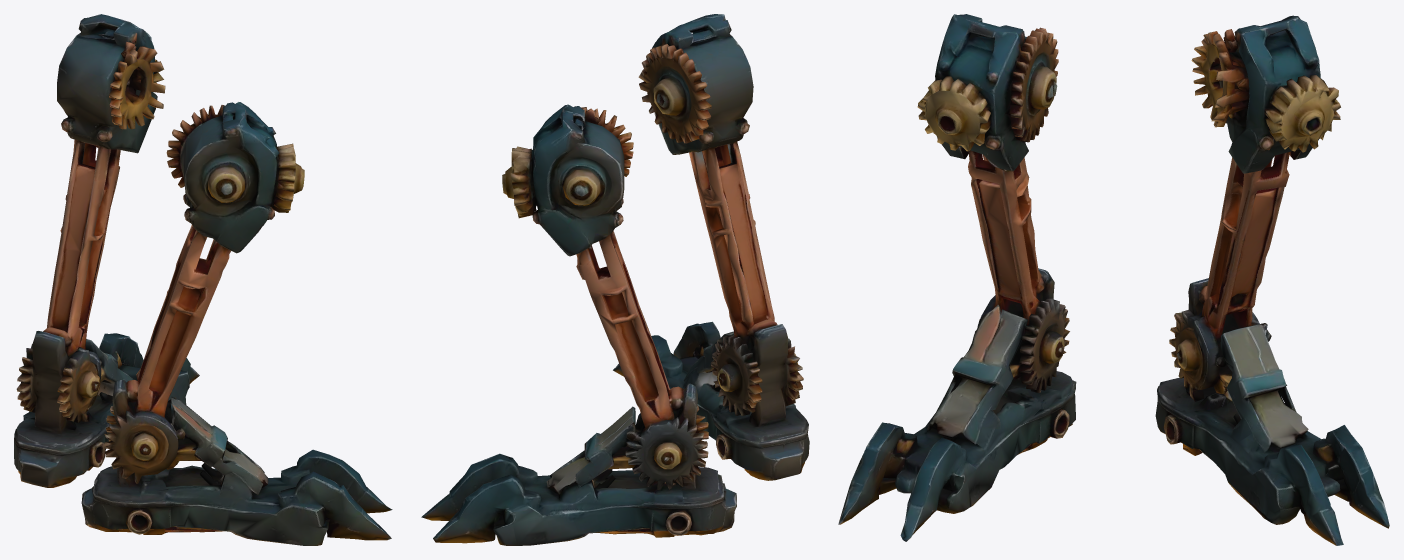
File: legs.glb
3 renders of one model, left to right at view 1: azimuth 30°, elevation 25°; view 2: azimuth 150°, elevation 25°; view 3: azimuth 270°, elevation 25°, orthographic. The views are drawn at different scales.
Parts seen in each view (by area): view 1: tripo_node_de6f0ff8-4cfe-4d5c-9b96-442a7a8a018f; view 2: tripo_node_de6f0ff8-4cfe-4d5c-9b96-442a7a8a018f; view 3: tripo_node_de6f0ff8-4cfe-4d5c-9b96-442a7a8a018f.
Part boxes in pixels (bbox=[...]): tripo_node_de6f0ff8-4cfe-4d5c-9b96-442a7a8a018f: bbox=[14, 14, 392, 545]; tripo_node_de6f0ff8-4cfe-4d5c-9b96-442a7a8a018f: bbox=[421, 14, 809, 545]; tripo_node_de6f0ff8-4cfe-4d5c-9b96-442a7a8a018f: bbox=[838, 14, 1389, 545].
Size of the model in its own units: 0.5907 by 0.9326 by 1.
Materials: 1 (1 with a texture image).
